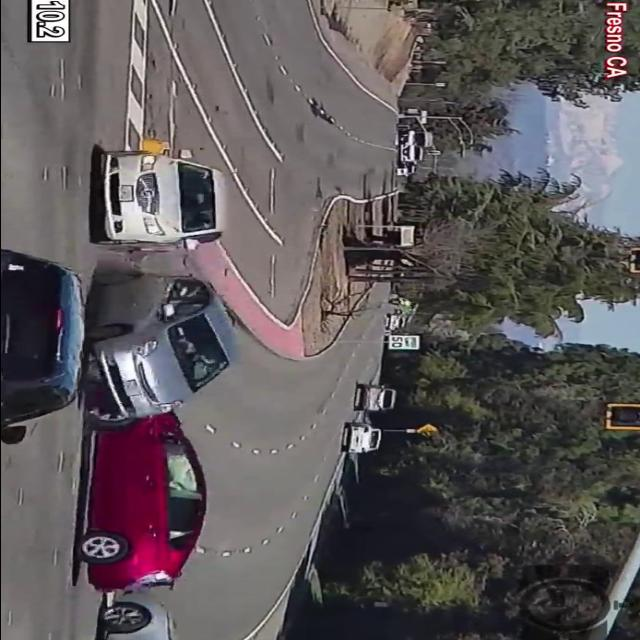accident: (66, 261, 254, 614)
